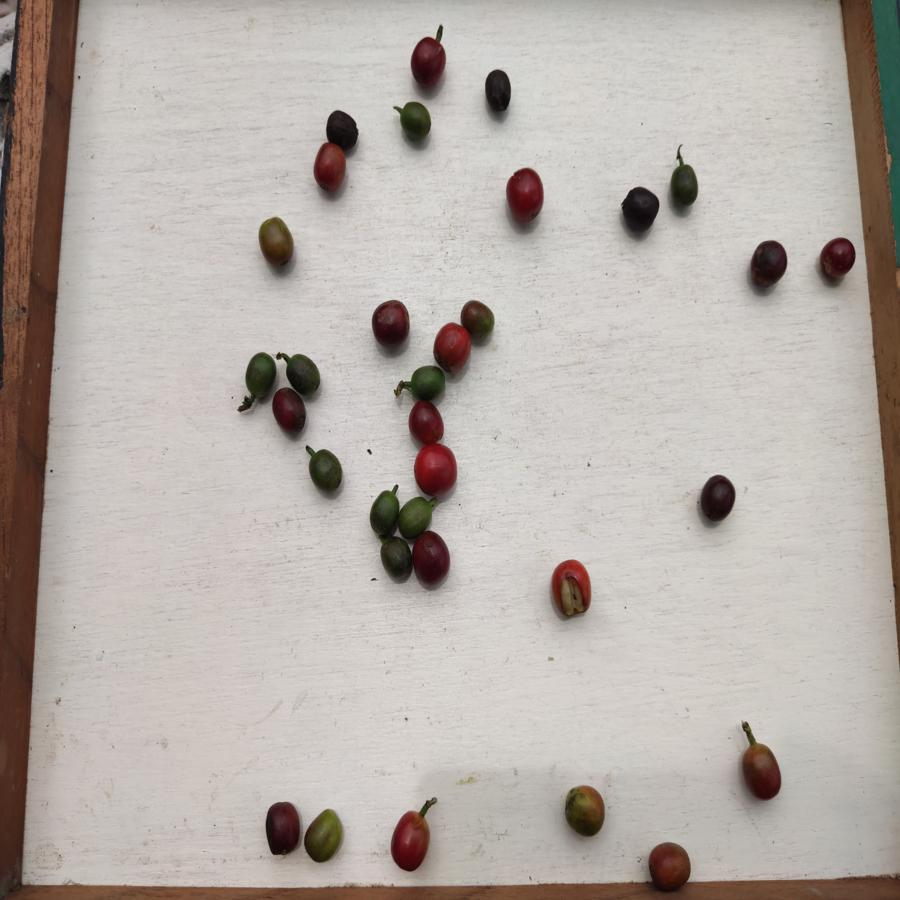Inmaduro: (307, 448, 344, 495), (379, 535, 413, 585), (669, 164, 703, 208), (370, 490, 400, 537), (398, 101, 432, 142), (244, 353, 273, 400), (287, 352, 319, 394), (396, 496, 432, 533), (407, 367, 445, 399)
Maduro: (390, 810, 431, 873), (552, 560, 592, 618), (414, 444, 458, 496), (507, 167, 544, 224), (434, 324, 469, 375), (408, 399, 446, 444), (314, 143, 346, 193)
Pinton: (739, 740, 786, 802), (302, 807, 345, 864), (647, 842, 694, 892), (562, 785, 606, 836), (257, 215, 293, 267), (461, 299, 495, 339)
Sobremaduro: (262, 802, 302, 859), (370, 299, 412, 351), (748, 238, 789, 290), (408, 36, 448, 89), (413, 532, 452, 585), (270, 388, 308, 438), (620, 187, 661, 232), (697, 474, 736, 521), (819, 237, 857, 280), (483, 69, 513, 115), (325, 108, 360, 147)
